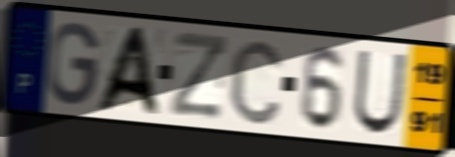6: (299, 43, 347, 133)
A: (91, 25, 164, 119)
C: (227, 36, 286, 128)
G: (45, 20, 102, 108)
U: (351, 47, 410, 137)
Z: (167, 28, 231, 121)
